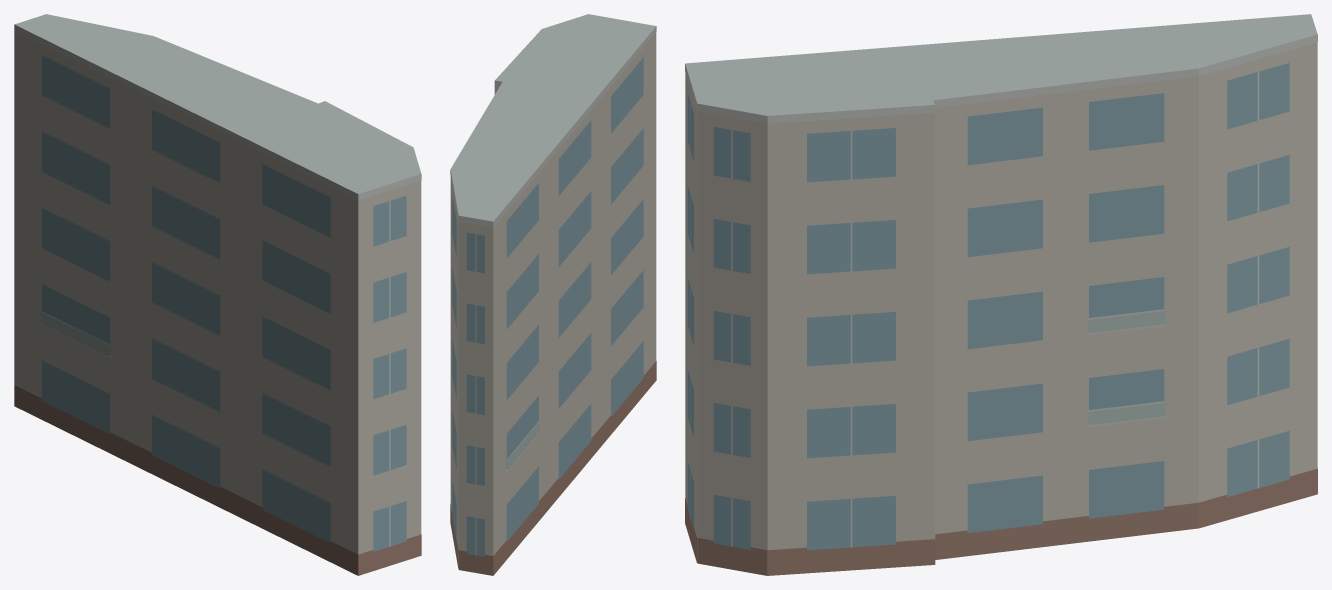
Rendered from survey-upis-32719175.glb.
3 renders of one model, left to right at view 1: azimuth 30°, elevation 25°; view 2: azimuth 150°, elevation 25°; view 3: azimuth 270°, elevation 25°, orthographic. The views are drawn at different scales.
Parts seen in each view (by area): view 1: survey-upis-32719175.tmp; view 2: survey-upis-32719175.tmp; view 3: survey-upis-32719175.tmp.
Part boxes in pixels (<box>): survey-upis-32719175.tmp: <box>14,14,421,575</box>; survey-upis-32719175.tmp: <box>450,14,656,575</box>; survey-upis-32719175.tmp: <box>685,14,1317,575</box>.
Bounding box in the file's own units: 6.9 × 14.5 × 18.09.
